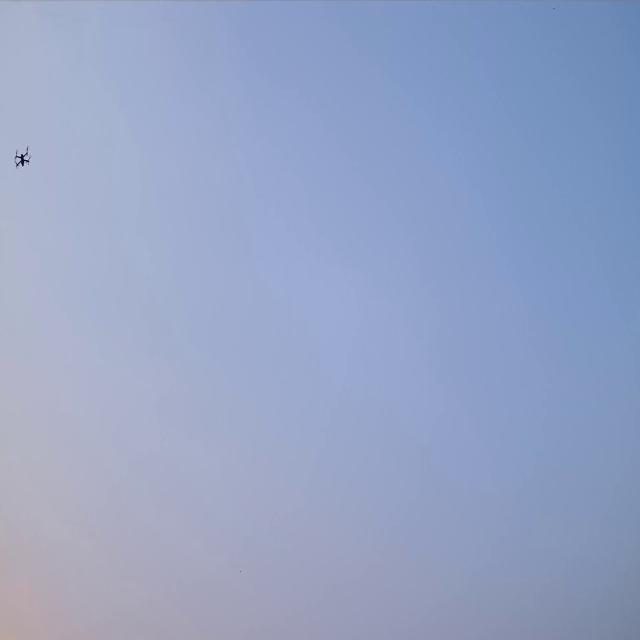UAV: (14, 144, 32, 169)
